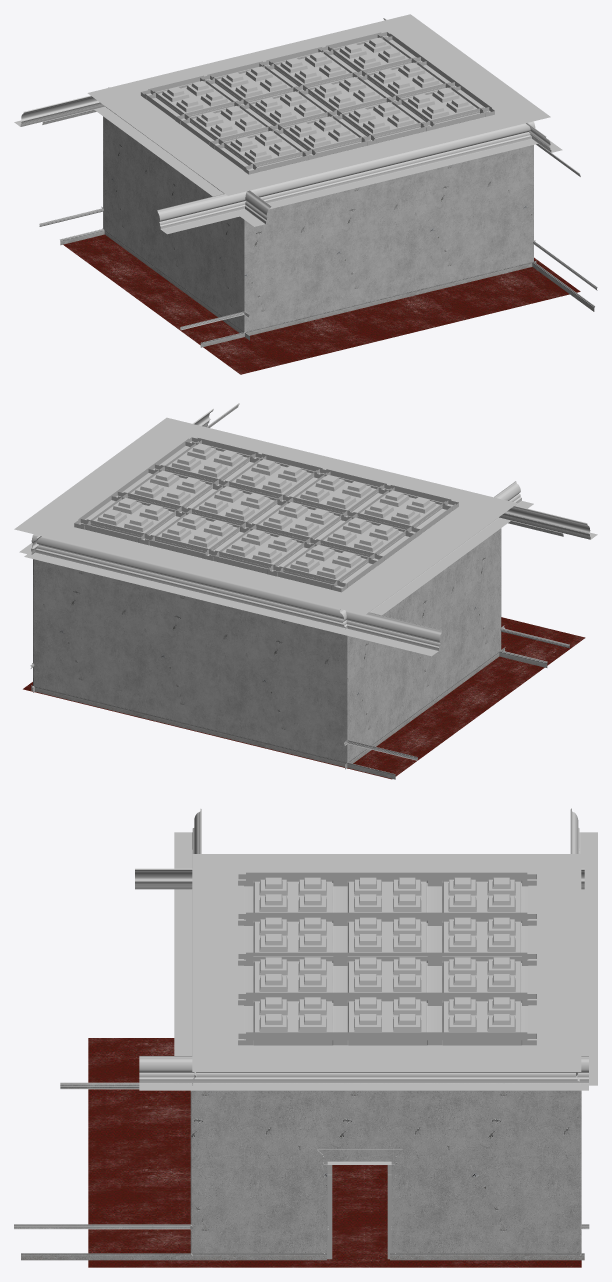
The model's file is Hotelroom5.fbx.
3 renders of one model, top to bottom at view 1: azimuth 30°, elevation 25°; view 2: azimuth 150°, elevation 25°; view 3: azimuth 270°, elevation 25°, orthographic. The views are drawn at different scales.
Parts seen in each view (by area): view 1: LODGroup_1_MainMesh_1_SubMesh_7, LODGroup_1_MainMesh_1_SubMesh_2, LODGroup_1_MainMesh_1_SubMesh_5, LODGroup_1_MainMesh_1_SubMesh_6, LODGroup_1_MainMesh_1_SubMesh_4, LODGroup_1_MainMesh_1_SubMesh_3; view 2: LODGroup_1_MainMesh_1_SubMesh_7, LODGroup_1_MainMesh_1_SubMesh_2, LODGroup_1_MainMesh_1_SubMesh_6, LODGroup_1_MainMesh_1_SubMesh_4, LODGroup_1_MainMesh_1_SubMesh_5, LODGroup_1_MainMesh_1_SubMesh_3; view 3: LODGroup_1_MainMesh_1_SubMesh_7, LODGroup_1_MainMesh_1_SubMesh_2, LODGroup_1_MainMesh_1_SubMesh_6, LODGroup_1_MainMesh_1_SubMesh_5, LODGroup_1_MainMesh_1_SubMesh_4, LODGroup_1_MainMesh_1_SubMesh_3, LODGroup_1_MainMesh_1_SubMesh_1.
Part boxes in pixels (<box>): LODGroup_1_MainMesh_1_SubMesh_7: <box>103,116,533,332</box>; LODGroup_1_MainMesh_1_SubMesh_2: <box>140,32,494,174</box>; LODGroup_1_MainMesh_1_SubMesh_5: <box>63,234,580,374</box>; LODGroup_1_MainMesh_1_SubMesh_6: <box>87,14,550,195</box>; LODGroup_1_MainMesh_1_SubMesh_4: <box>14,18,562,234</box>; LODGroup_1_MainMesh_1_SubMesh_3: <box>39,106,597,347</box>; LODGroup_1_MainMesh_1_SubMesh_7: <box>33,528,501,762</box>; LODGroup_1_MainMesh_1_SubMesh_2: <box>74,437,458,592</box>; LODGroup_1_MainMesh_1_SubMesh_6: <box>14,417,517,614</box>; LODGroup_1_MainMesh_1_SubMesh_4: <box>19,408,597,656</box>; LODGroup_1_MainMesh_1_SubMesh_5: <box>23,617,585,779</box>; LODGroup_1_MainMesh_1_SubMesh_3: <box>30,403,569,779</box>; LODGroup_1_MainMesh_1_SubMesh_7: <box>190,1090,581,1253</box>; LODGroup_1_MainMesh_1_SubMesh_2: <box>238,872,536,1045</box>; LODGroup_1_MainMesh_1_SubMesh_6: <box>192,854,581,1071</box>; LODGroup_1_MainMesh_1_SubMesh_5: <box>88,1038,581,1267</box>; LODGroup_1_MainMesh_1_SubMesh_4: <box>135,808,597,1090</box>; LODGroup_1_MainMesh_1_SubMesh_3: <box>14,849,589,1260</box>; LODGroup_1_MainMesh_1_SubMesh_1: <box>317,1149,402,1259</box>.
Bounding box in the file's own units: 1465 × 555 × 1372.
